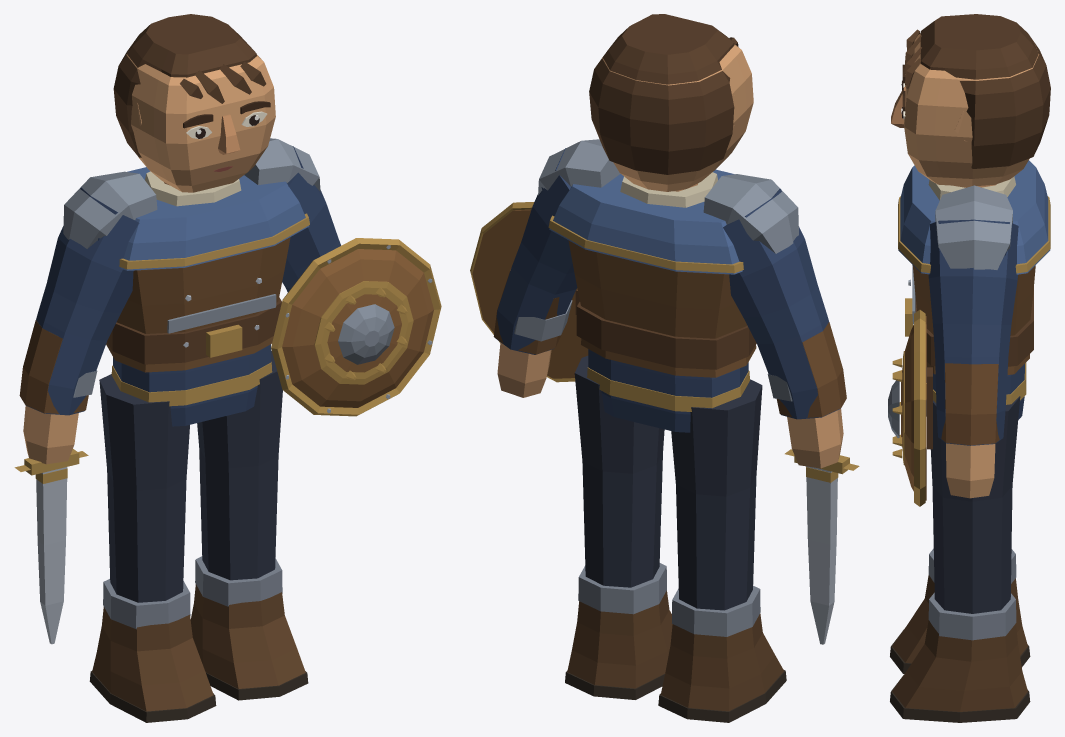
File: warrior-rare.obj
3 renders of one model, left to right at view 1: azimuth 30°, elevation 25°; view 2: azimuth 150°, elevation 25°; view 3: azimuth 270°, elevation 25°, orthographic.
Visible parts, largest first — view 1: bacaklar, cizmeler, kollar, kalkan, kafa, gogus-zirhi, pelerin, sac, omuzluklar, kalkan-cercedeyi, govde, cizme-plakalari (+13 smaller); view 2: bacaklar, sac, kollar, cizmeler, gogus-zirhi, pelerin, omuzluklar, kemer, kalkan, cizme-plakalari, govde, eller (+9 smaller); view 3: sac, bacaklar, cizmeler, kollar, kafa, pelerin, omuzluklar, bileklikler, cizme-plakalari, eller, kalkan-cercedeyi, cizme-tabani (+12 smaller).
Part boxes in pixels (x1=…): bacaklar: x1=99, y1=350, x2=282, y2=602; cizmeler: x1=92, y1=584, x2=305, y2=711; kollar: x1=25, y1=146, x2=340, y2=415; kalkan: x1=282, y1=249, x2=433, y2=407; kafa: x1=126, y1=42, x2=275, y2=192; gogus-zirhi: x1=106, y1=237, x2=290, y2=372; pelerin: x1=120, y1=167, x2=309, y2=270; sac: x1=113, y1=14, x2=266, y2=157; omuzluklar: x1=63, y1=138, x2=320, y2=248; kalkan-cercedeyi: x1=271, y1=238, x2=441, y2=416; govde: x1=113, y1=344, x2=270, y2=426; cizme-plakalari: x1=103, y1=556, x2=282, y2=629; bacaklar: x1=574, y1=355, x2=762, y2=610; sac: x1=589, y1=14, x2=738, y2=174; kollar: x1=494, y1=148, x2=840, y2=419; cizmeler: x1=567, y1=590, x2=783, y2=711; gogus-zirhi: x1=568, y1=240, x2=756, y2=377; pelerin: x1=549, y1=169, x2=742, y2=274; omuzluklar: x1=538, y1=139, x2=798, y2=253; kemer: x1=576, y1=302, x2=756, y2=369; kalkan: x1=472, y1=209, x2=588, y2=378; cizme-plakalari: x1=578, y1=563, x2=760, y2=636; govde: x1=588, y1=349, x2=748, y2=432; eller: x1=497, y1=342, x2=843, y2=468; sac: x1=904, y1=14, x2=1050, y2=168; bacaklar: x1=930, y1=396, x2=1020, y2=613; cizmeler: x1=892, y1=575, x2=1027, y2=711; kollar: x1=928, y1=219, x2=1018, y2=445; kafa: x1=904, y1=33, x2=1039, y2=186; pelerin: x1=898, y1=160, x2=1050, y2=274; omuzluklar: x1=935, y1=185, x2=1012, y2=269; bileklikler: x1=941, y1=363, x2=999, y2=445; cizme-plakalari: x1=928, y1=548, x2=1016, y2=640; eller: x1=946, y1=443, x2=995, y2=498; kalkan-cercedeyi: x1=914, y1=309, x2=925, y2=506; cizme-tabani: x1=890, y1=629, x2=1030, y2=722.
Size of the model in its own units: 26.23 by 40.05 by 9.14.
